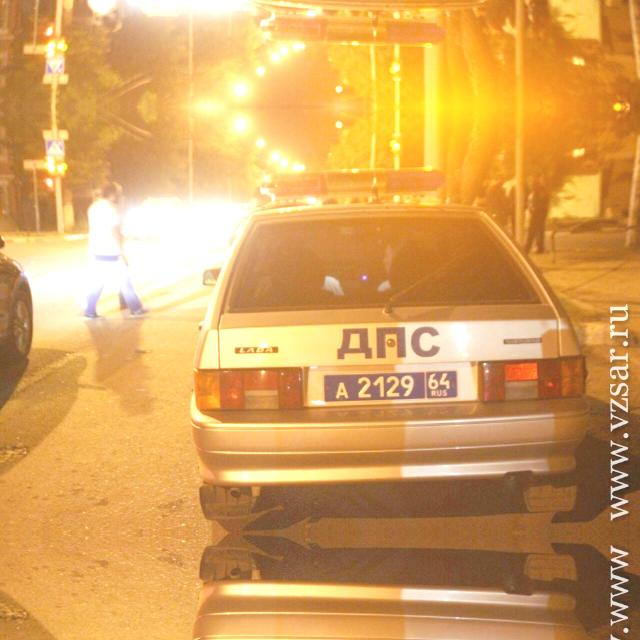police: (320, 369, 460, 403)
